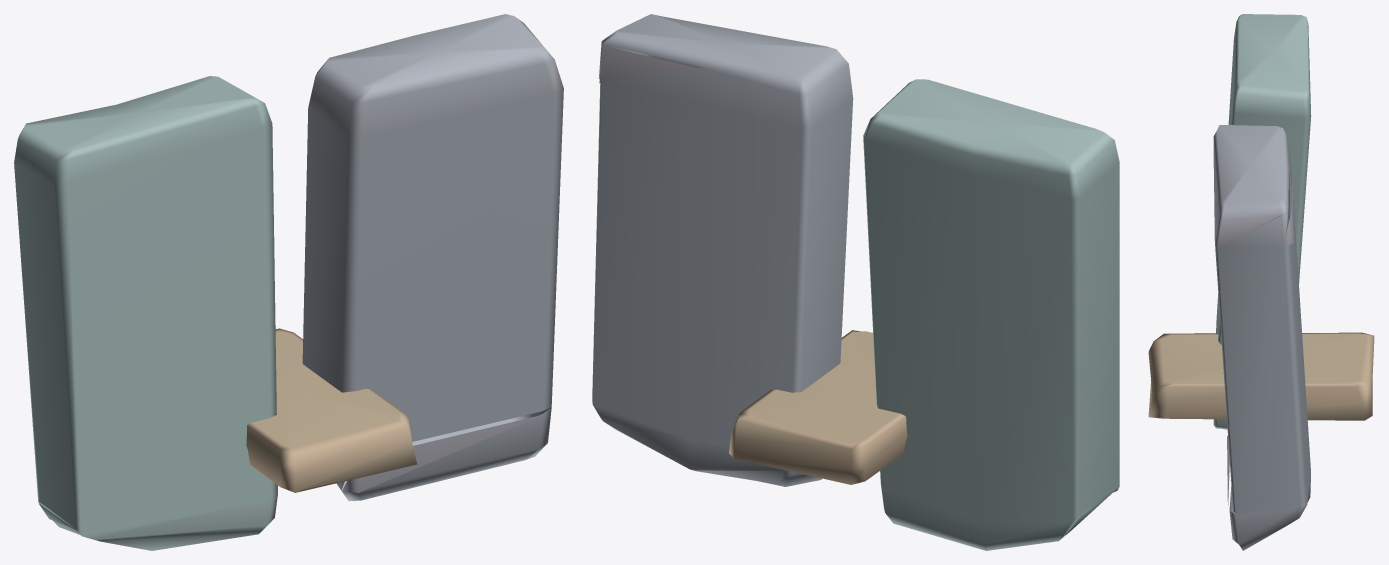
The model's file is boundary.gate.stile_c.glb.
The picture shows the model from 3 angles, left to right: view 1: azimuth 30°, elevation 25°; view 2: azimuth 150°, elevation 25°; view 3: azimuth 270°, elevation 25°; orthographic projection. The views are drawn at different scales.
Parts seen in each view (by area): view 1: main__galv_abb, main__galv_aab, main__paint_aab, main__paint_abb, main__paint_ba9, main__paint_ca9, main__concrete_aab, main__concrete_abb, main__concrete_bab; view 2: main__galv_aab, main__galv_abb, main__concrete_abb, main__paint_abb, main__paint_aab, main__paint_ba9, main__paint_ca9, main__concrete_aab, main__paint_bab; view 3: main__galv_aab, main__paint_ba9, main__paint_aab, main__paint_abb, main__paint_ca9, main__galv_abb, main__concrete_aab, main__paint_bab.
Boxes of the visible parts, <box> form: main__galv_abb: <box>14,124,277,541</box>; main__galv_aab: <box>302,88,563,441</box>; main__paint_aab: <box>308,14,554,137</box>; main__paint_abb: <box>14,76,272,185</box>; main__paint_ba9: <box>246,332,417,490</box>; main__paint_ca9: <box>246,328,412,492</box>; main__concrete_aab: <box>336,407,551,501</box>; main__concrete_abb: <box>52,494,277,550</box>; main__concrete_bab: <box>342,415,542,492</box>; main__galv_aab: <box>592,52,853,472</box>; main__galv_abb: <box>863,137,1119,544</box>; main__concrete_abb: <box>880,174,1089,550</box>; main__paint_abb: <box>863,79,1119,199</box>; main__paint_aab: <box>598,14,852,127</box>; main__paint_ba9: <box>729,330,907,465</box>; main__paint_ca9: <box>729,333,907,484</box>; main__concrete_aab: <box>604,421,821,486</box>; main__paint_bab: <box>599,45,699,83</box>; main__galv_aab: <box>1215,164,1310,543</box>; main__paint_ba9: <box>1148,334,1374,420</box>; main__paint_aab: <box>1213,125,1291,246</box>; main__paint_abb: <box>1232,14,1311,118</box>; main__paint_ca9: <box>1148,332,1374,420</box>; main__galv_abb: <box>1216,40,1310,345</box>; main__concrete_aab: <box>1229,475,1310,550</box>; main__paint_bab: <box>1215,176,1293,246</box>.
Size of the model in its own units: 1.47 by 1.22 by 0.701.
